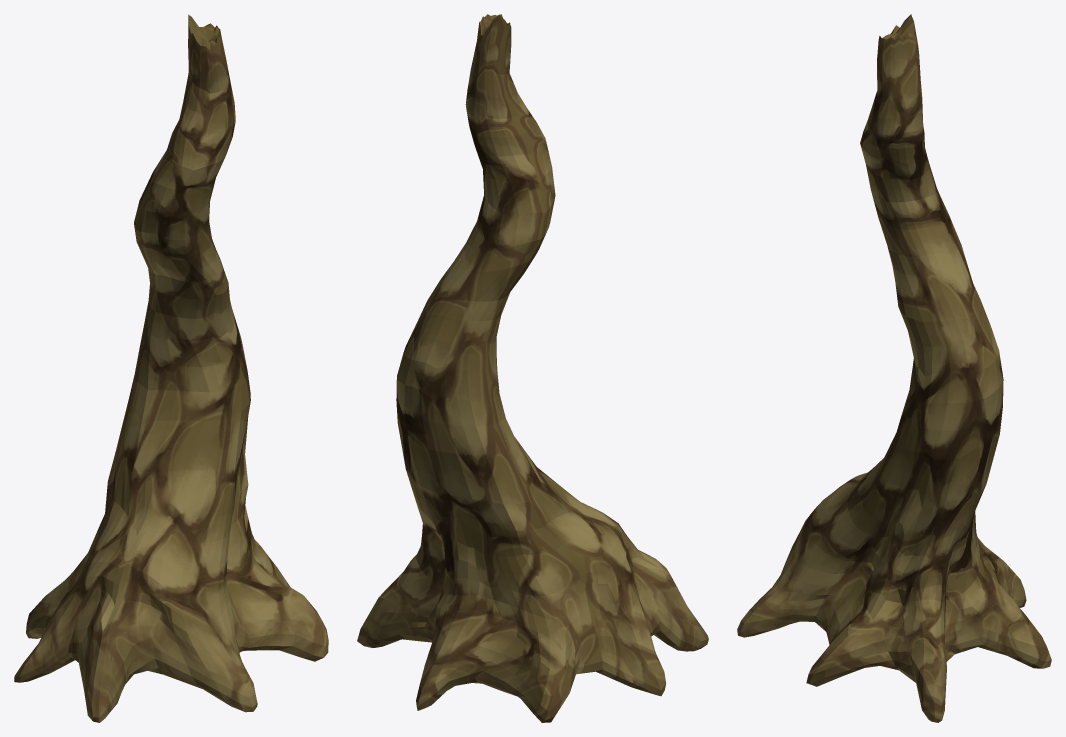
Rendered from treeBaseCurved.fbx.
3 renders of one model, left to right at view 1: azimuth 30°, elevation 25°; view 2: azimuth 150°, elevation 25°; view 3: azimuth 270°, elevation 25°, orthographic.
Visible parts, largest first — view 1: pCylinder19; view 2: pCylinder19; view 3: pCylinder19.
Part boxes in pixels (x1=…): pCylinder19: x1=14, y1=14, x2=328, y2=722; pCylinder19: x1=357, y1=14, x2=708, y2=722; pCylinder19: x1=737, y1=14, x2=1051, y2=722.
Bounding box in the file's own units: 570 × 1205 × 528.
Materials: 1 (1 with a texture image).
